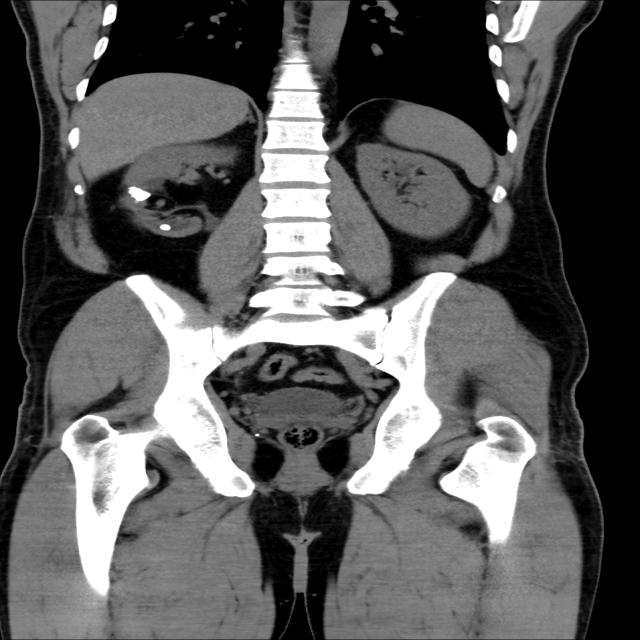kidneystone: (128, 186, 151, 201), (159, 224, 173, 231)
